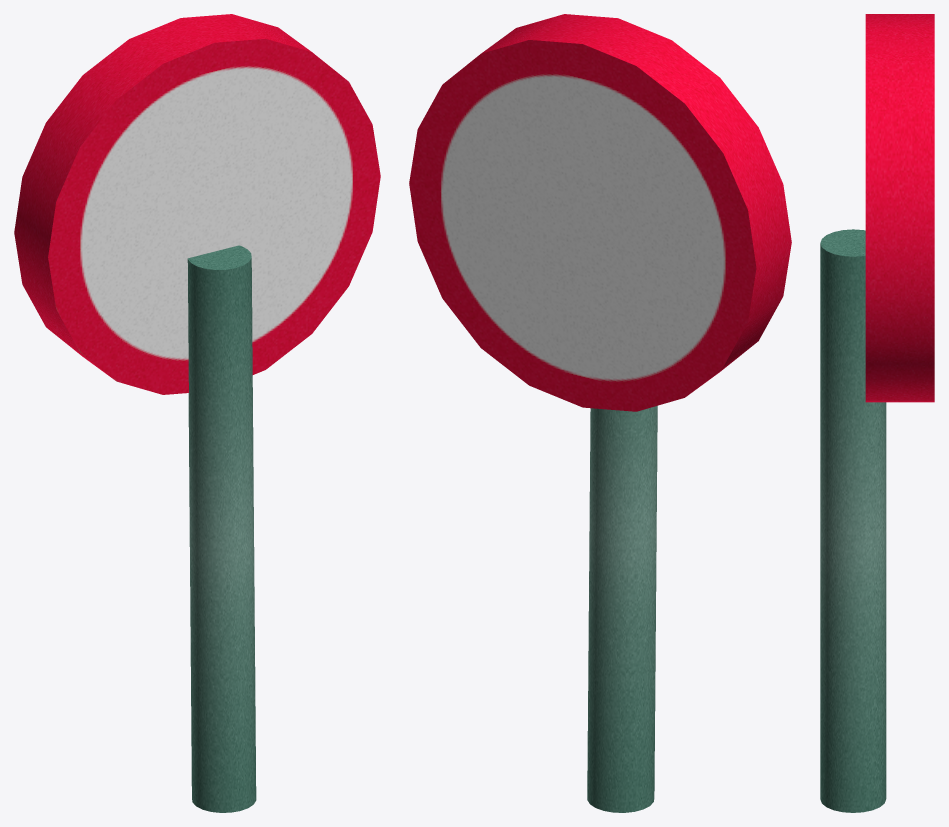
Rendered from sign_2.fbx.
The picture shows the model from 3 angles, left to right: view 1: azimuth 30°, elevation 25°; view 2: azimuth 150°, elevation 25°; view 3: azimuth 270°, elevation 25°; orthographic projection. The views are drawn at different scales.
Parts seen in each view (by area): view 1: pCylinder4, pCylinder2; view 2: pCylinder4, pCylinder2; view 3: pCylinder2, pCylinder4.
Part boxes in pixels (<box>): pCylinder4: <box>14,14,380,394</box>; pCylinder2: <box>187,245,256,812</box>; pCylinder4: <box>409,14,791,411</box>; pCylinder2: <box>587,406,657,812</box>; pCylinder2: <box>820,229,886,812</box>; pCylinder4: <box>865,14,934,402</box>.
Size of the model in its own units: 1.3 by 2.81 by 0.38.
